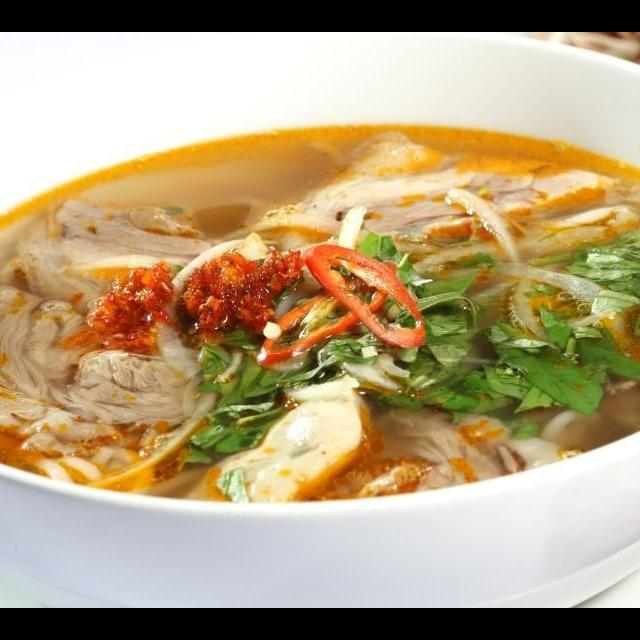thit bo: (246, 124, 627, 271), (0, 276, 257, 452), (4, 192, 268, 329), (340, 401, 565, 508), (588, 302, 640, 440)
